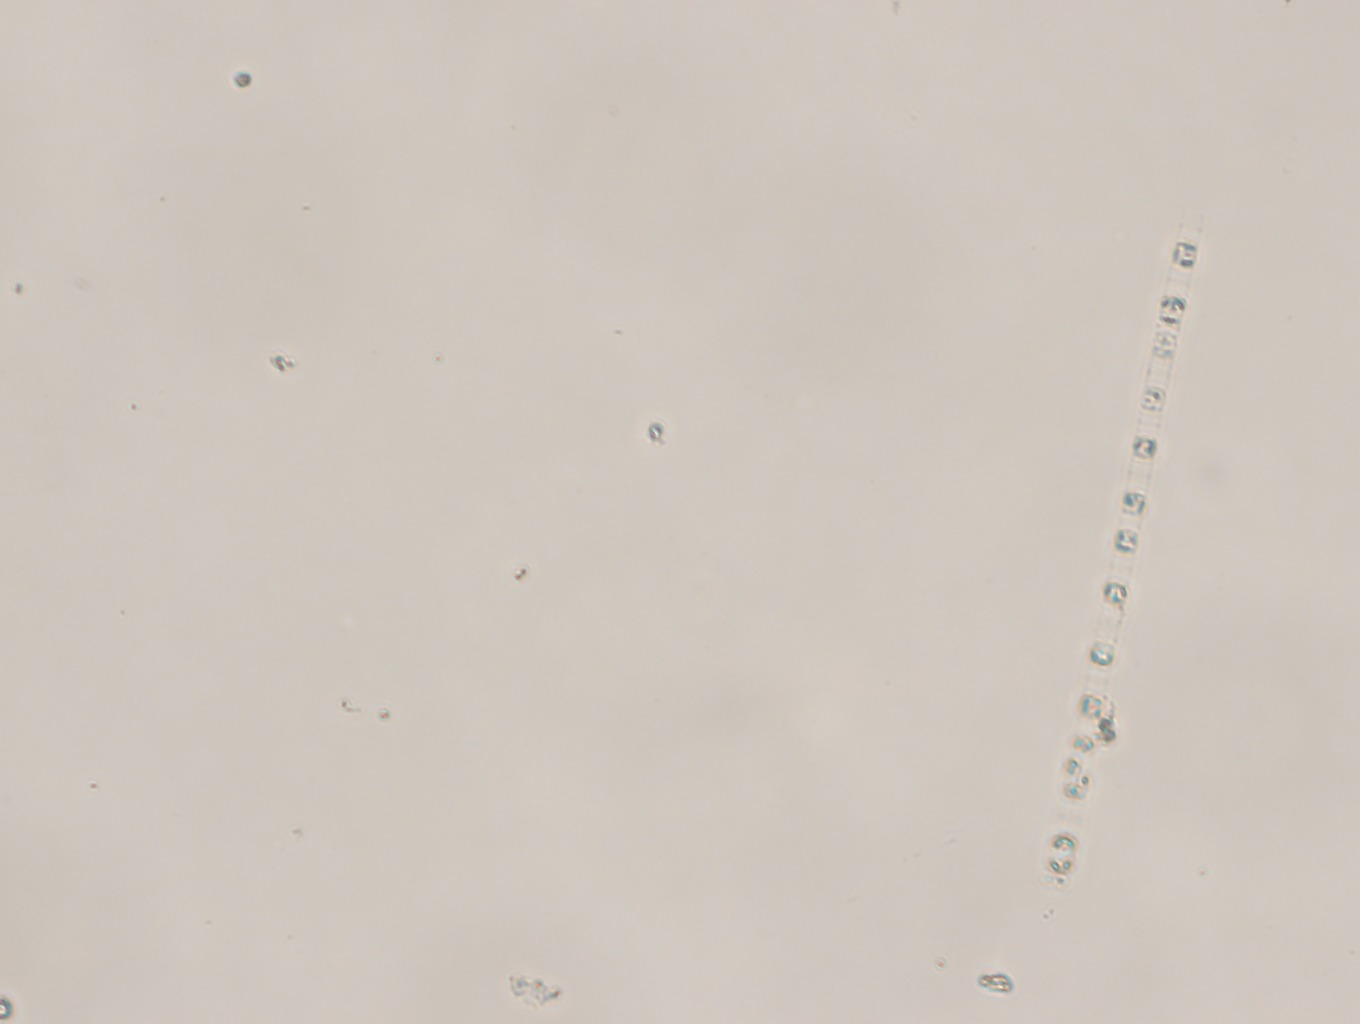skeletonema: (1035, 189, 1213, 933)
